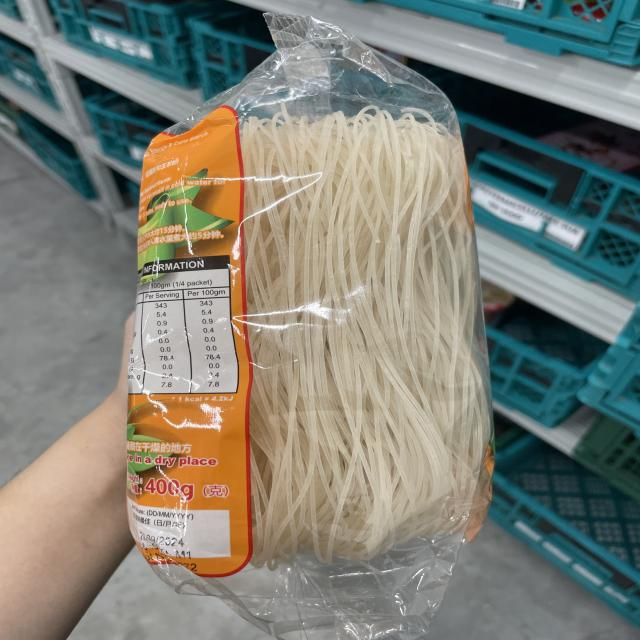object_name: (161, 108, 472, 581)
